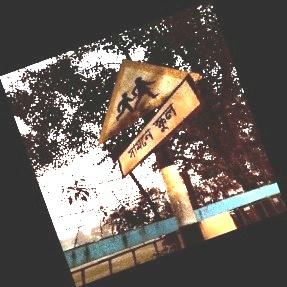School-in-front: (99, 60, 204, 178)
